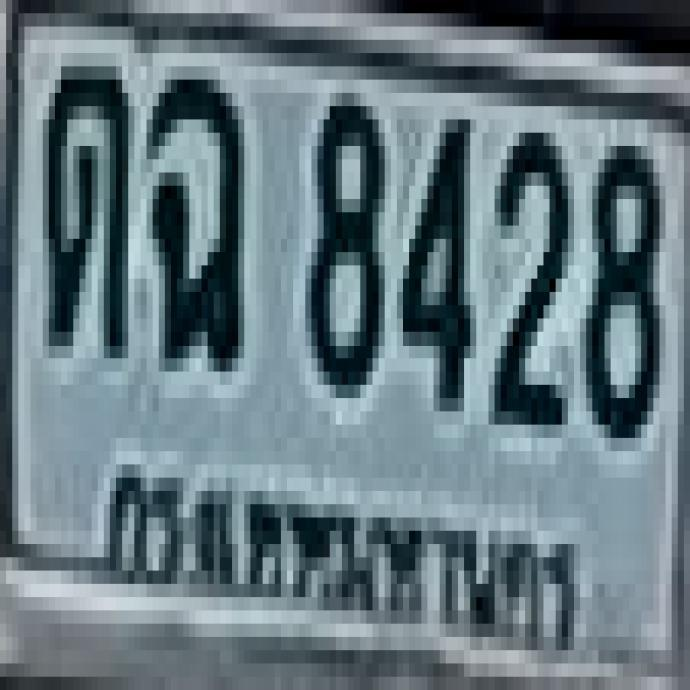2: (488, 121, 565, 417)
4: (397, 104, 467, 398)
8: (302, 83, 378, 386), (580, 134, 655, 430)
A09: (145, 67, 238, 359)
A20: (26, 43, 143, 376)
BKK: (92, 443, 591, 658)
